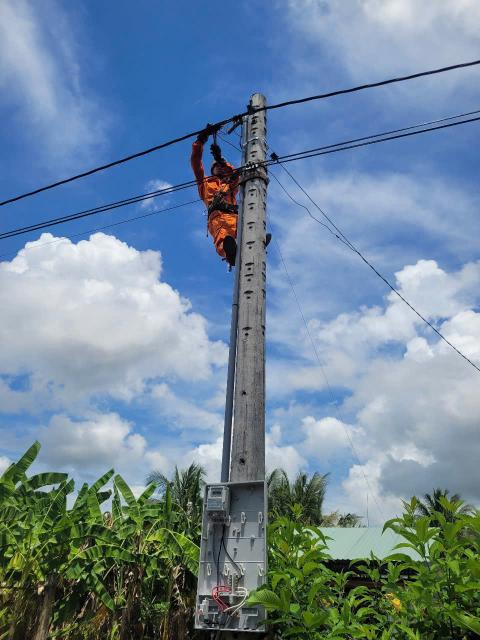gloves: (209, 143, 229, 168), (195, 121, 216, 143)
harness: (199, 194, 244, 216)
helmet: (206, 159, 229, 174)
shoes: (219, 235, 246, 272)
